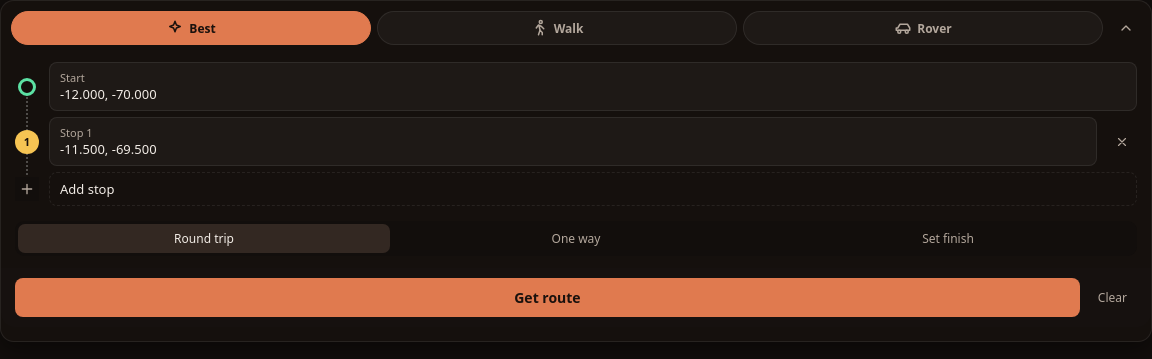
Test: the planner collapses to its travel mode bar
Click the button named "Collapse route planner" at (1126, 28), box top-left (1111, 13), bottom-right (1141, 43)
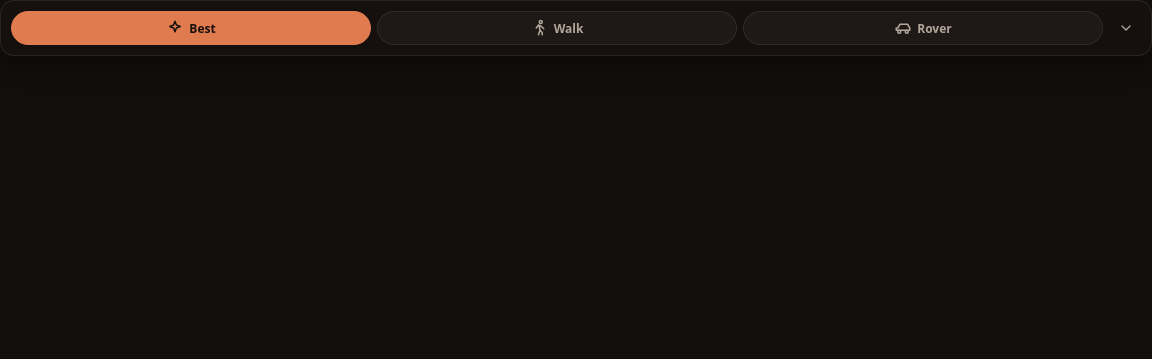
Expected: the radio button labelled "Best" is shown, top-left (11, 11), bottom-right (371, 45)
Expected: the button "Get route" is gone
Click the button named "Expand route planner" at (1126, 28), box top-left (1111, 13), bottom-right (1141, 43)
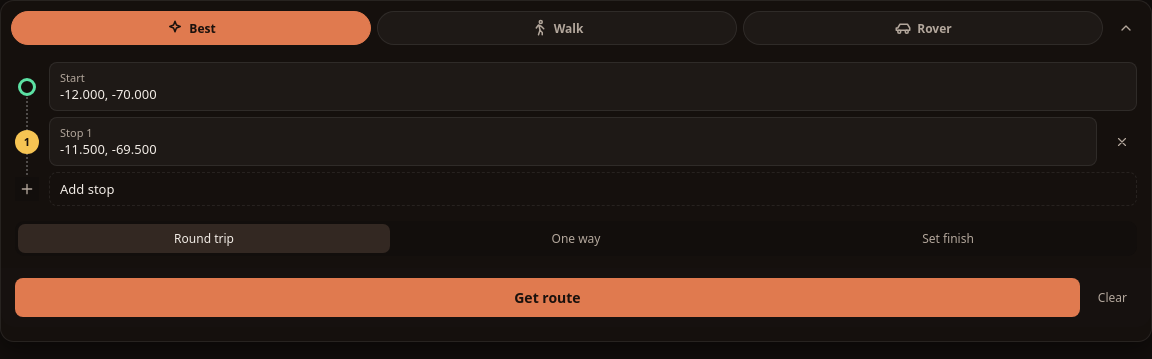
Expected: the button "Get route" is shown, top-left (15, 278), bottom-right (1080, 317)
